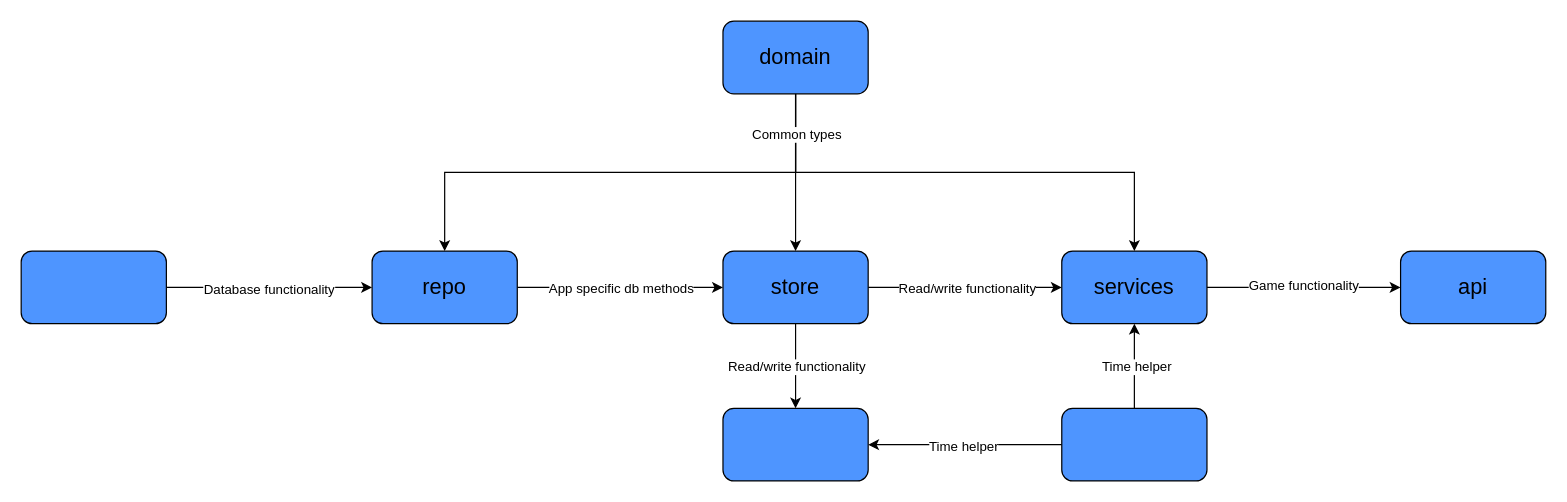
Image size: 1567x502. Some labels were removed from this diagram. Here are the shapes that lost their labels. From the top down, the centre of each, then its label:
[93,287]: db
[795,444]: jobs
[1134,444]: utils
